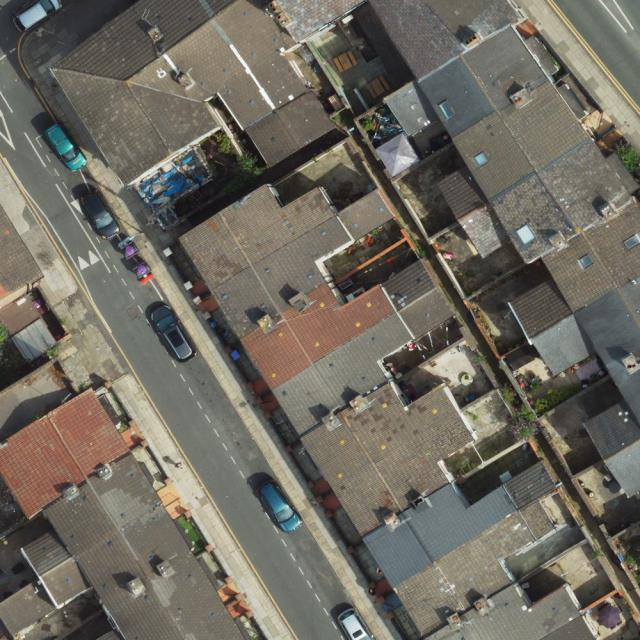roof: (50, 0, 640, 498), (178, 183, 600, 640), (0, 386, 249, 640), (2, 201, 43, 302)
skylight: (438, 98, 459, 122), (518, 224, 538, 247), (577, 252, 597, 270), (472, 150, 491, 167), (622, 233, 640, 249)
